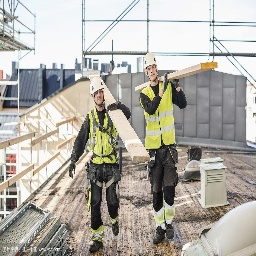helmet: (88, 77, 107, 98), (144, 54, 158, 75)
person: (137, 51, 181, 256), (80, 75, 124, 256)
vest: (139, 78, 178, 152), (86, 107, 116, 164)
